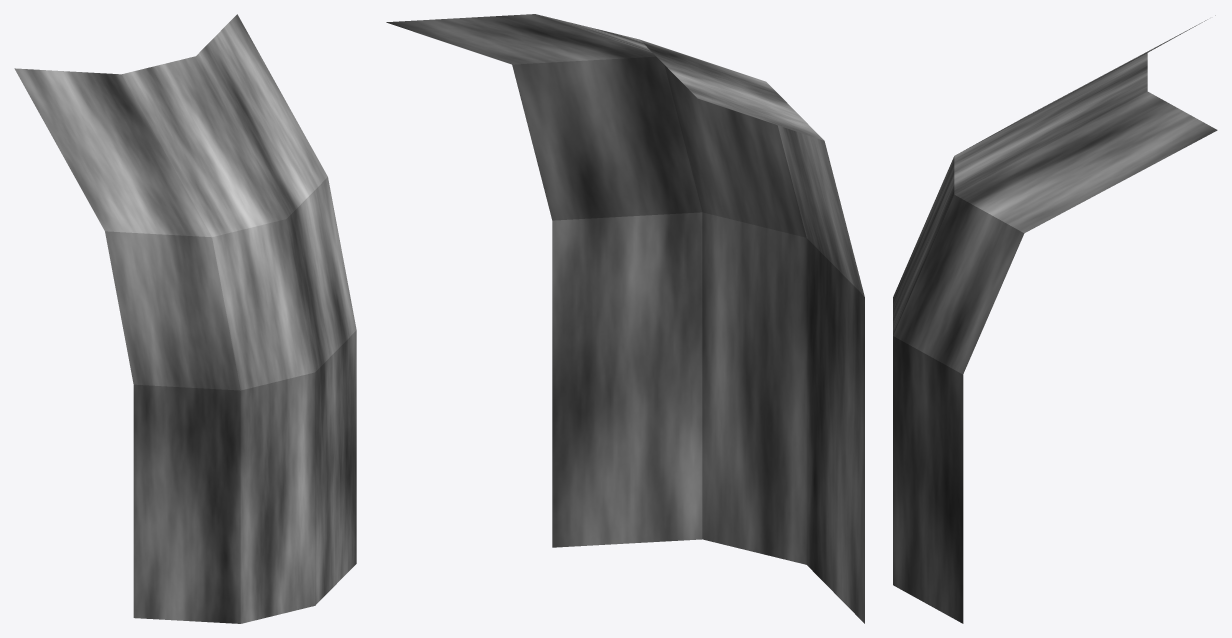
Rendered from LowPoly_Tomedelic_WaterFall.fbx.
The picture shows the model from 3 angles, left to right: view 1: azimuth 30°, elevation 25°; view 2: azimuth 150°, elevation 25°; view 3: azimuth 270°, elevation 25°; orthographic projection. The views are drawn at different scales.
Visible parts, largest first — view 1: Plane; view 2: Plane; view 3: Plane.
Part boxes in pixels (bbox=[...]): Plane: bbox=[14, 14, 356, 623]; Plane: bbox=[386, 14, 864, 623]; Plane: bbox=[893, 15, 1217, 623].
Bounding box in the file's own units: 2 × 3.96 × 2.36.
Materials: 1 (1 with a texture image).
